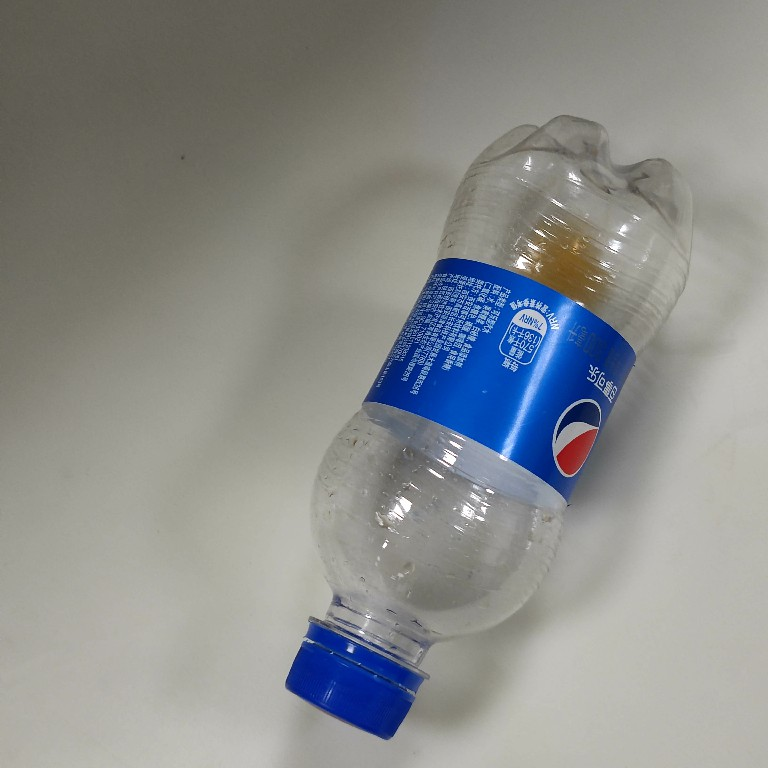bottle: (274, 112, 694, 749)
